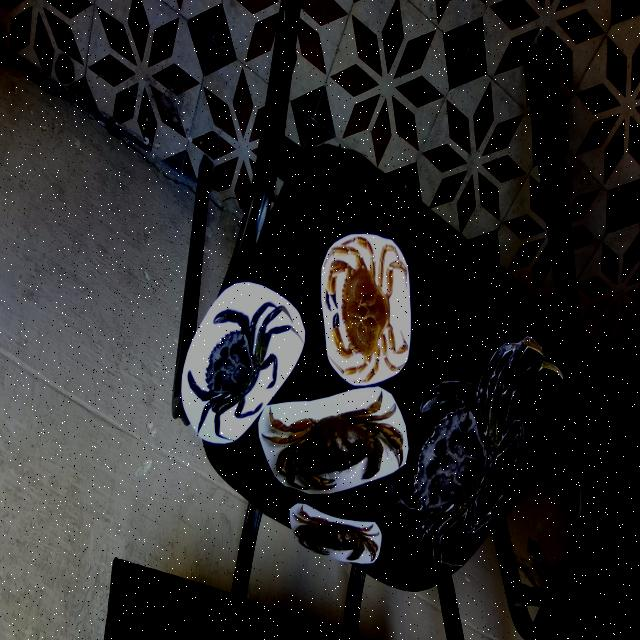European_Green_Crab: (370, 262, 565, 621), (172, 250, 304, 475)
